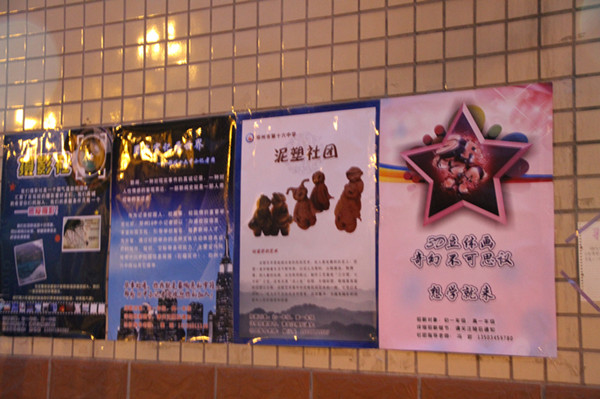bill: (380, 82, 556, 360), (235, 102, 381, 347), (110, 109, 233, 344), (1, 125, 109, 342)
